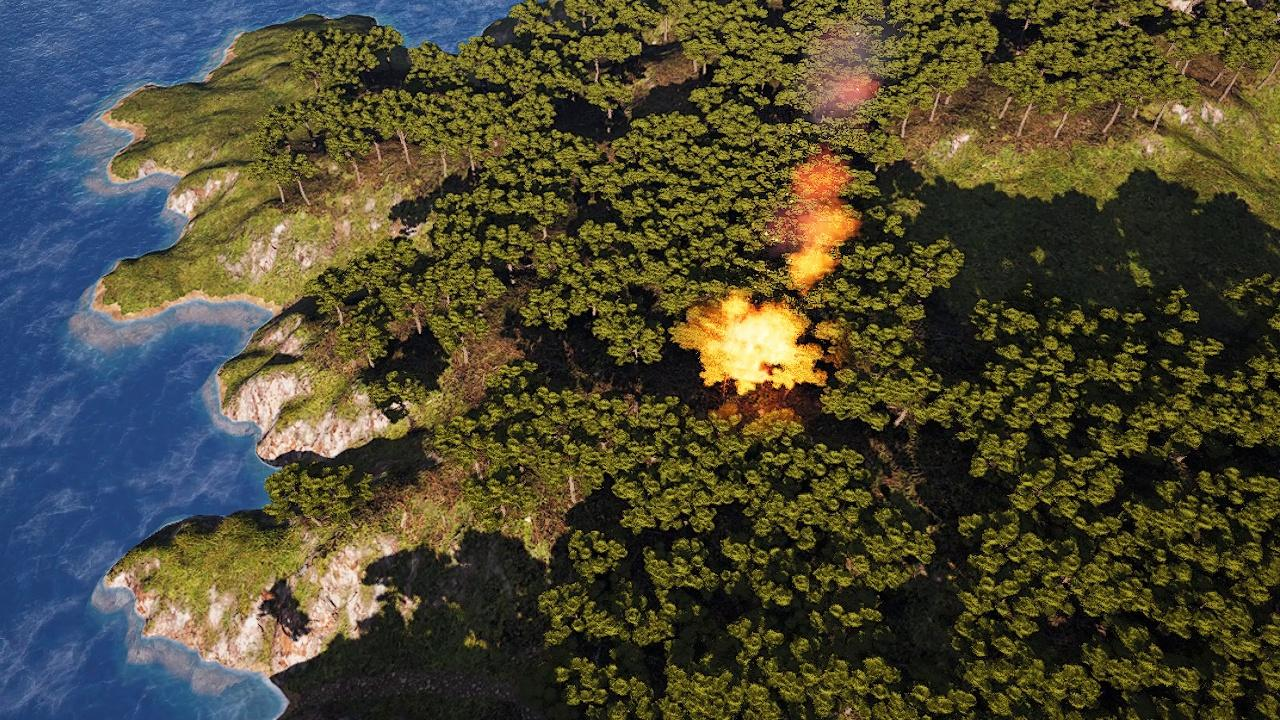fire: (707, 300, 818, 401)
smoke: (781, 19, 887, 293)
